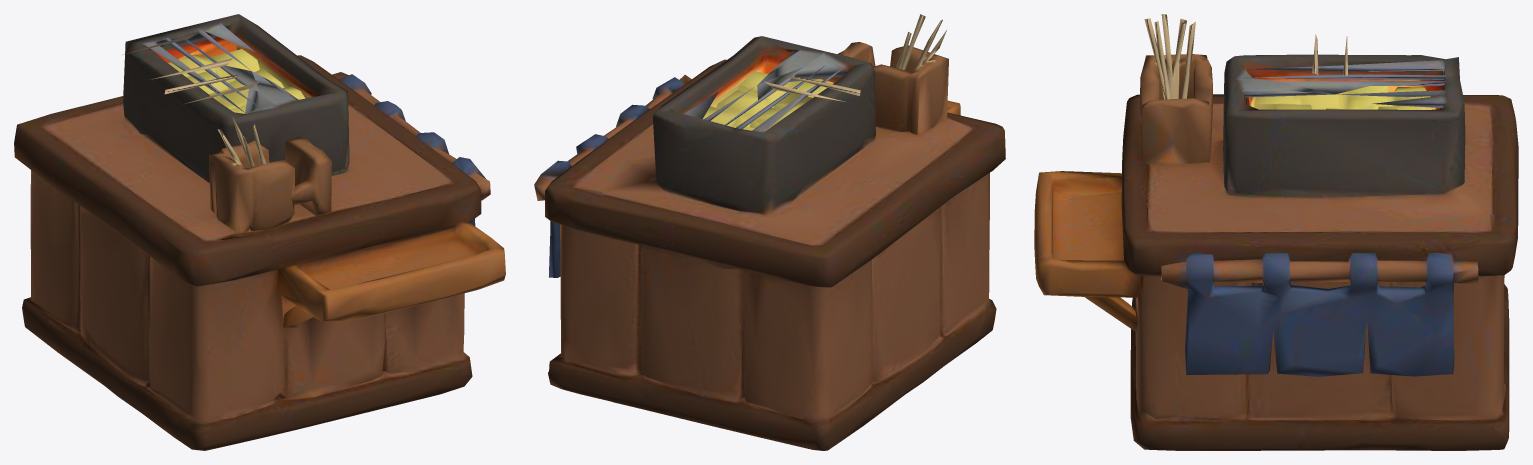
File: JP_사물_s2_dessert_stand_dango.glb
3 renders of one model, left to right at view 1: azimuth 30°, elevation 25°; view 2: azimuth 150°, elevation 25°; view 3: azimuth 270°, elevation 25°, orthographic. The views are drawn at different scales.
Visible parts, largest first — view 1: tripo_node_174a1ce5-9dc9-4cdf-bcf1-54e98a5cd050; view 2: tripo_node_174a1ce5-9dc9-4cdf-bcf1-54e98a5cd050; view 3: tripo_node_174a1ce5-9dc9-4cdf-bcf1-54e98a5cd050.
Part boxes in pixels (bbox=[...]): tripo_node_174a1ce5-9dc9-4cdf-bcf1-54e98a5cd050: bbox=[14, 14, 505, 450]; tripo_node_174a1ce5-9dc9-4cdf-bcf1-54e98a5cd050: bbox=[534, 14, 1005, 450]; tripo_node_174a1ce5-9dc9-4cdf-bcf1-54e98a5cd050: bbox=[1034, 14, 1518, 450].
Bounding box in the file's own units: 1.3 × 1.18 × 1.6.
Materials: 1 (1 with a texture image).
